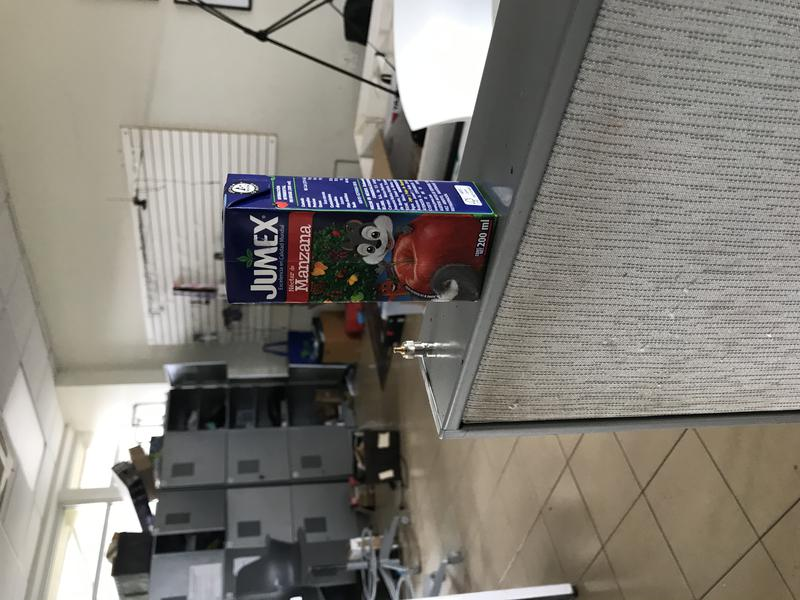jumex_cajita: (222, 172, 497, 305)
